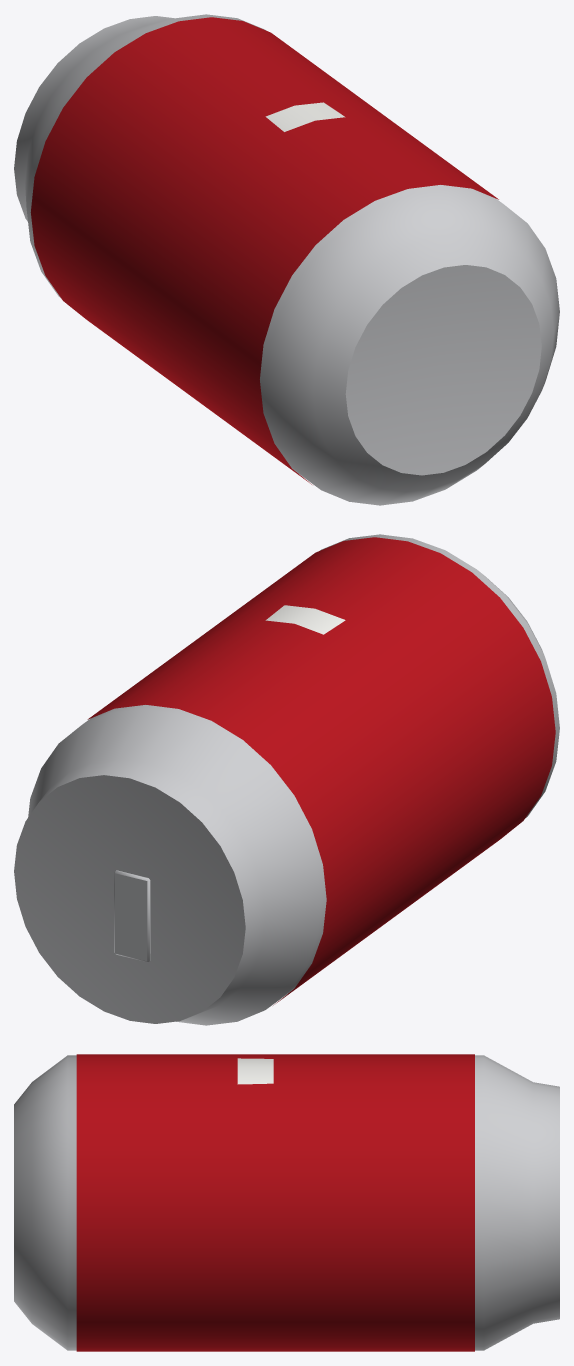
The model's file is soda_can.glb.
The picture shows the model from 3 angles, top to bottom: view 1: azimuth 30°, elevation 25°; view 2: azimuth 150°, elevation 25°; view 3: azimuth 270°, elevation 25°; orthographic projection. The views are drawn at different scales.
Parts seen in each view (by area): view 1: soda_can; view 2: soda_can; view 3: soda_can.
Boxes of the visible parts, left/top/right/bottom form: soda_can: left=14, top=14, right=559, bottom=505; soda_can: left=14, top=534, right=559, bottom=1025; soda_can: left=14, top=1054, right=559, bottom=1351.
Size of the model in its own units: 0.0658 by 0.066 by 0.1209.
